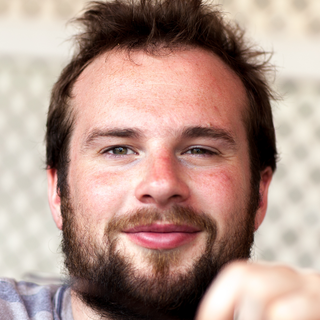eye: (176, 140, 225, 163), (95, 140, 143, 163)
